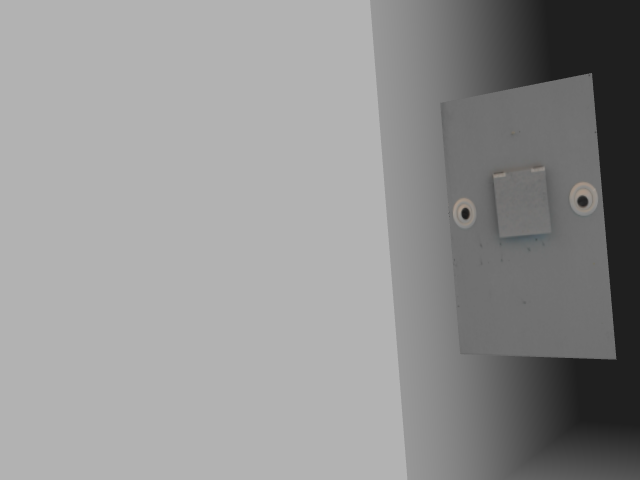facade: (450, 166, 599, 241)
